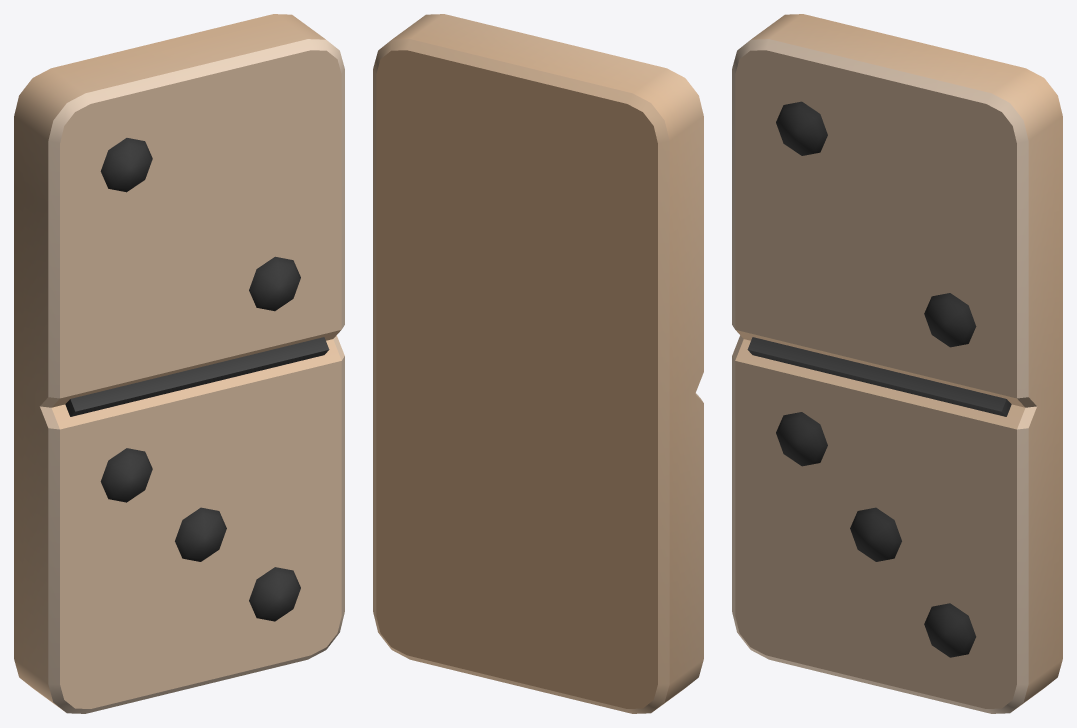
File: KFB_Domino_2-3.r1.glb
The picture shows the model from 3 angles, left to right: view 1: azimuth 30°, elevation 25°; view 2: azimuth 150°, elevation 25°; view 3: azimuth 330°, elevation 25°; orthographic projection.
Visible parts, largest first — view 1: KFB_Domino_2-3; view 2: KFB_Domino_2-3; view 3: KFB_Domino_2-3.
Part boxes in pixels (<box>): KFB_Domino_2-3: <box>14,14,344,713</box>; KFB_Domino_2-3: <box>373,14,703,713</box>; KFB_Domino_2-3: <box>732,14,1062,713</box>.
Size of the model in its own units: 2.44 by 4.87 by 0.6739.
Materials: 1 (1 with a texture image).
